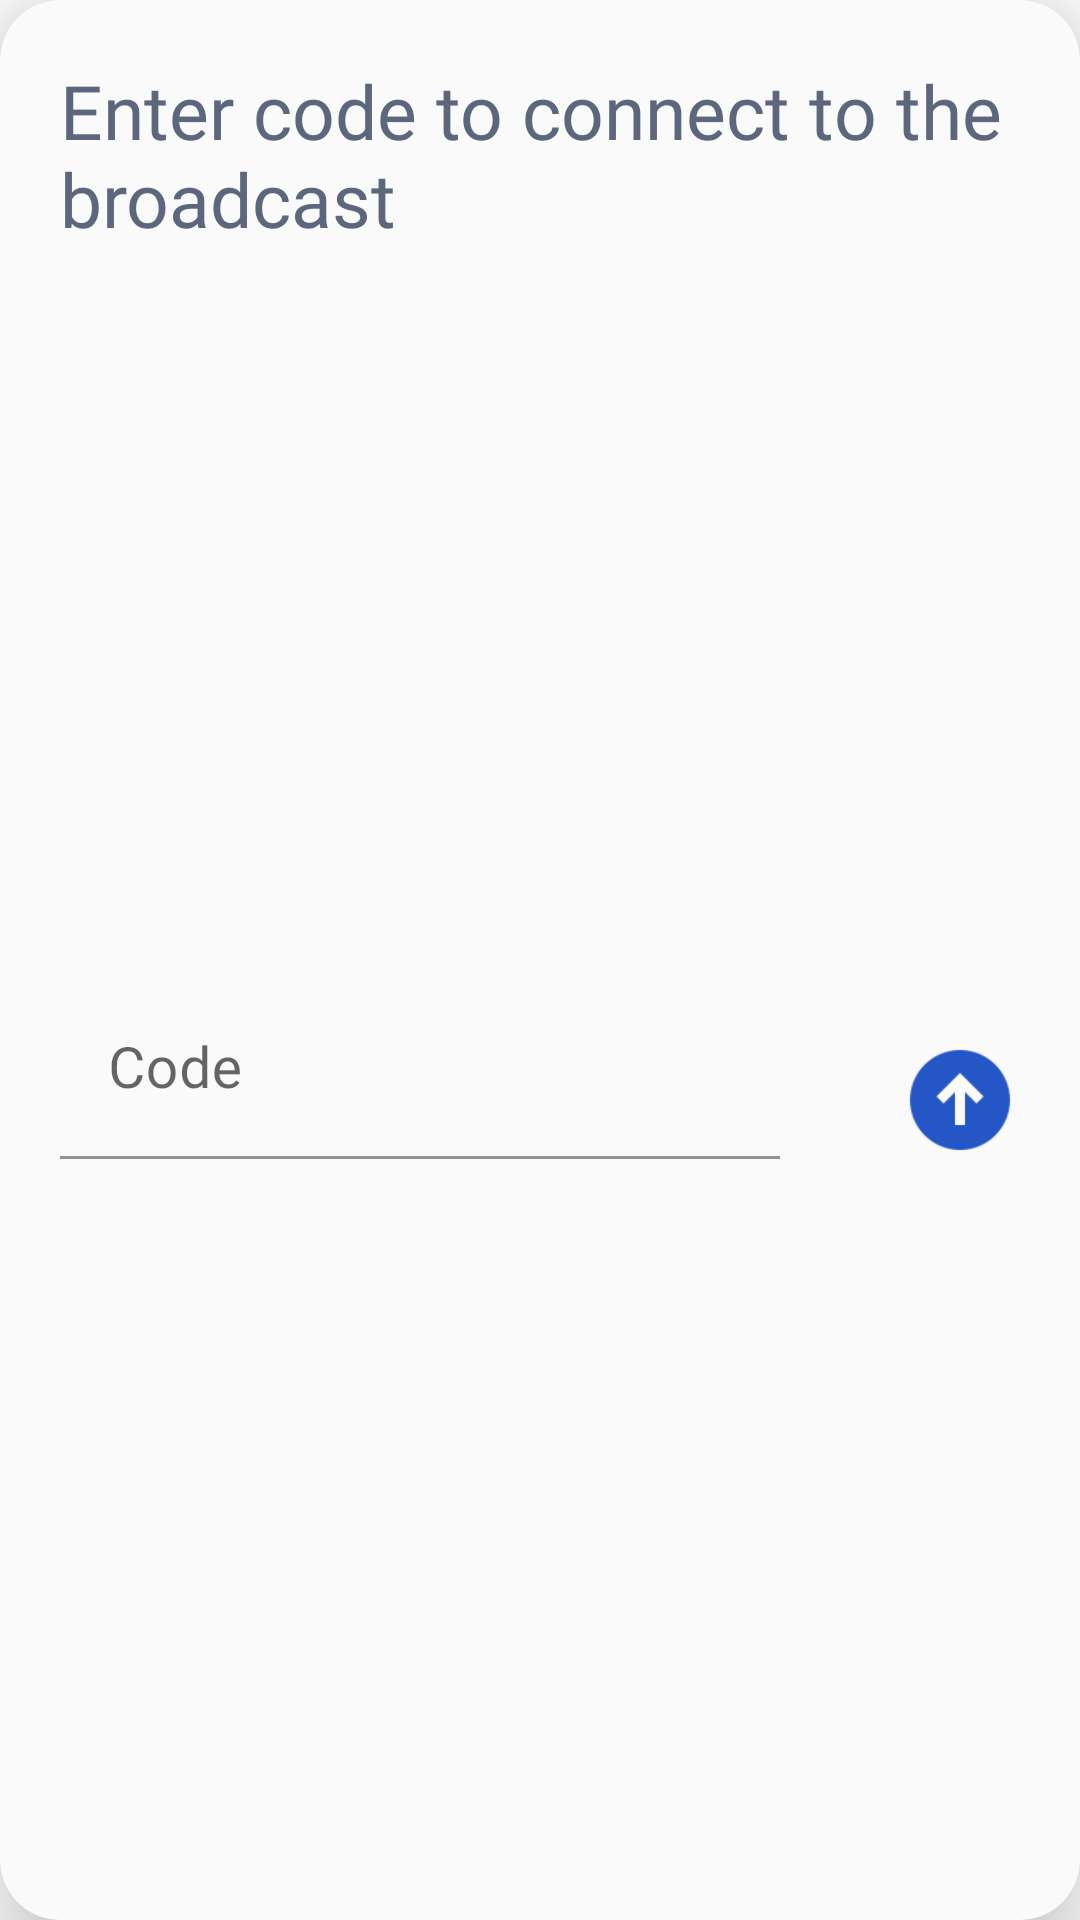

Point at icon controls on the screen. Image size 1080x1920, points as point (x, y).
send: point (960, 1100)
